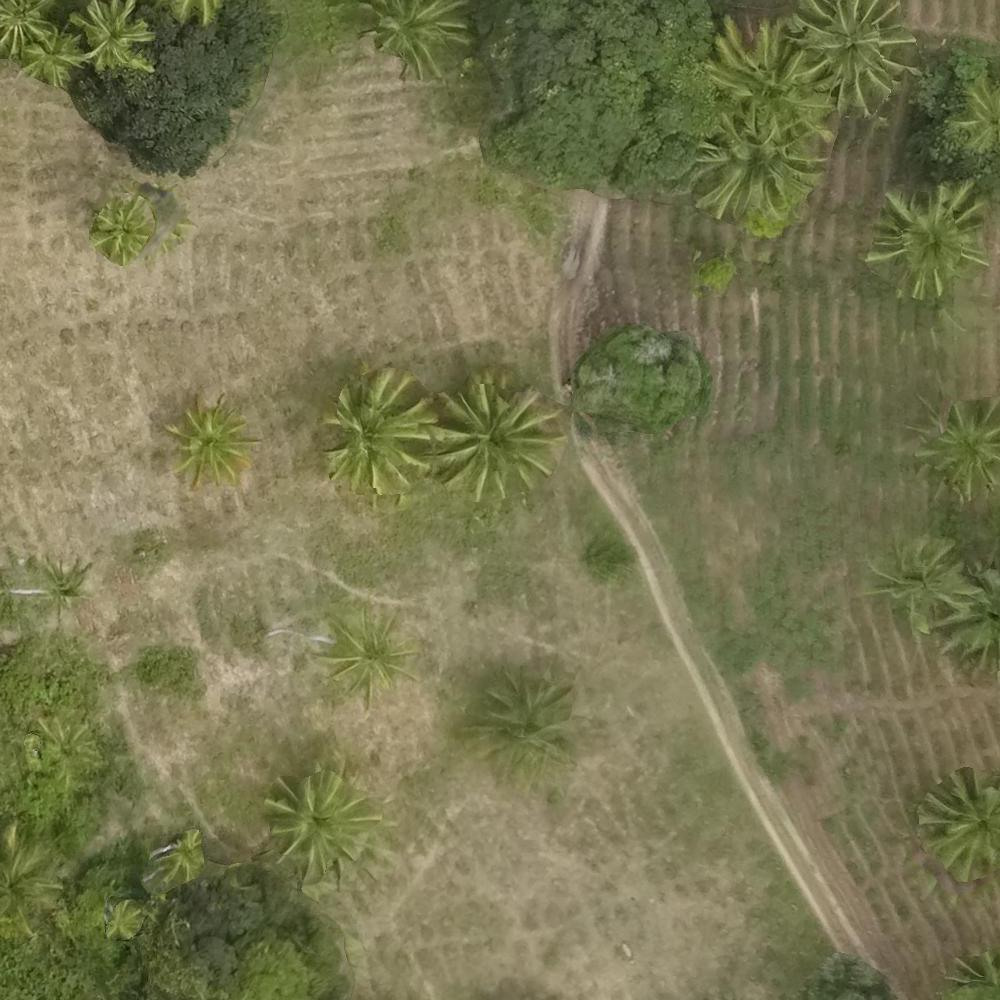Palm: (700, 15, 835, 125), (435, 377, 548, 497), (796, 1, 914, 114), (329, 376, 434, 495), (869, 184, 980, 292), (697, 112, 811, 216), (470, 673, 582, 775), (268, 775, 376, 880), (361, 1, 472, 81), (914, 774, 1000, 876), (909, 402, 1000, 496), (319, 610, 412, 699), (927, 563, 1000, 663), (164, 398, 247, 482), (69, 2, 152, 72), (32, 713, 96, 783), (26, 552, 92, 614), (20, 28, 84, 88), (94, 199, 152, 258)
